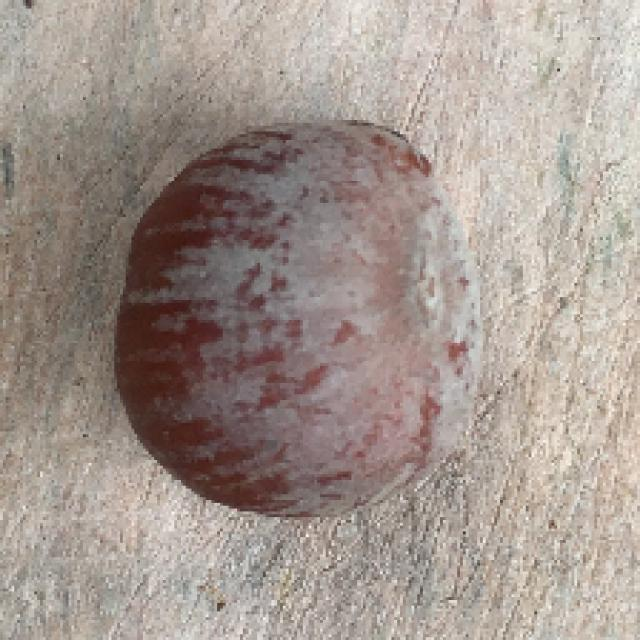qualityHazelnut: (112, 103, 486, 540)
